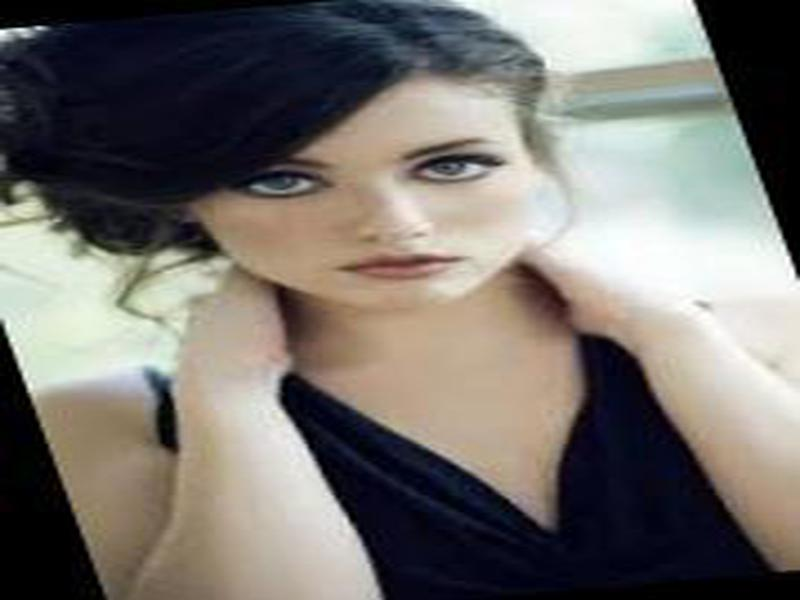without_mask: (202, 84, 542, 306)
